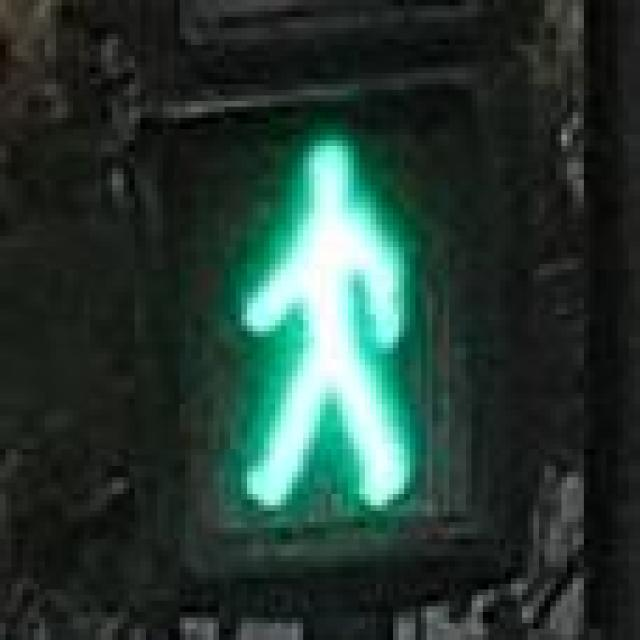green_light: (162, 101, 472, 528)
